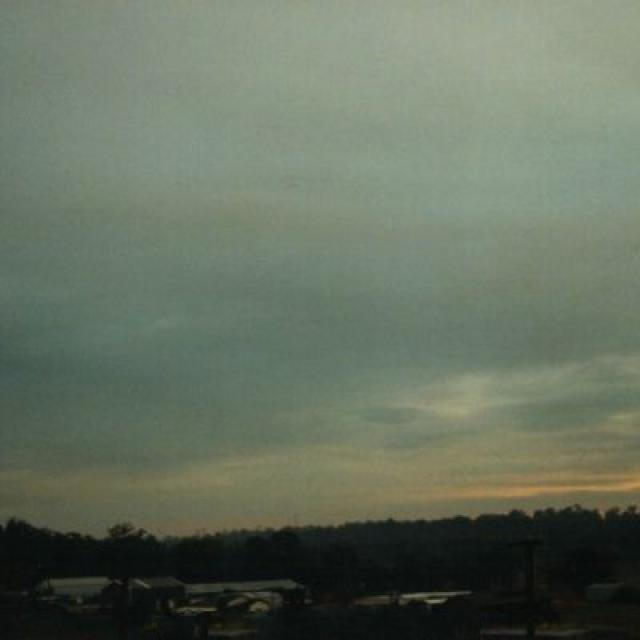Ns: (1, 132, 618, 493)
